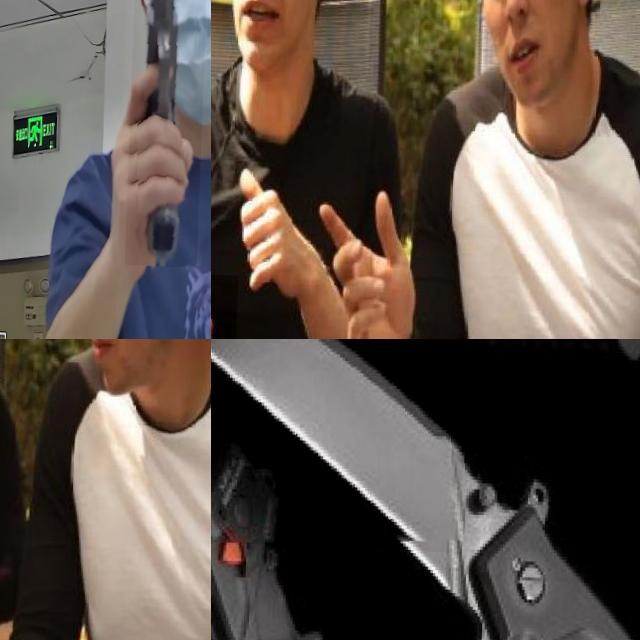-: (211, 339, 471, 550), (0, 490, 35, 631), (211, 271, 261, 339)
gun-knife-thesis - v11 Yolov5 augmented: (129, 0, 211, 264)
